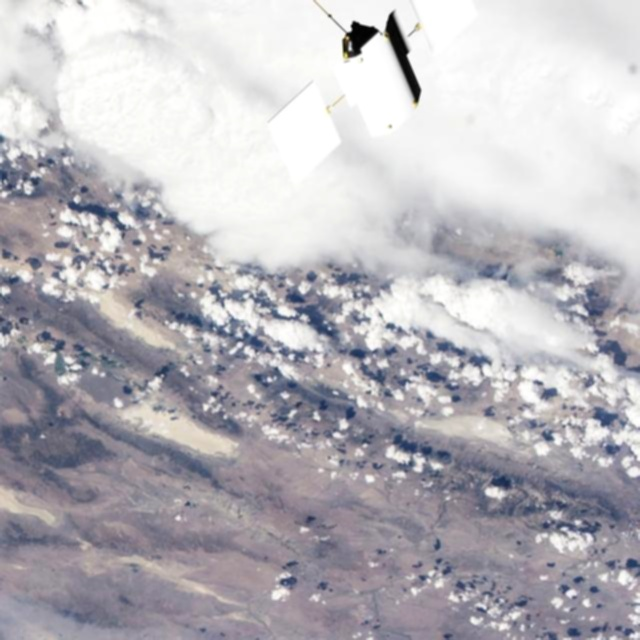satellite: (255, 0, 507, 190)
